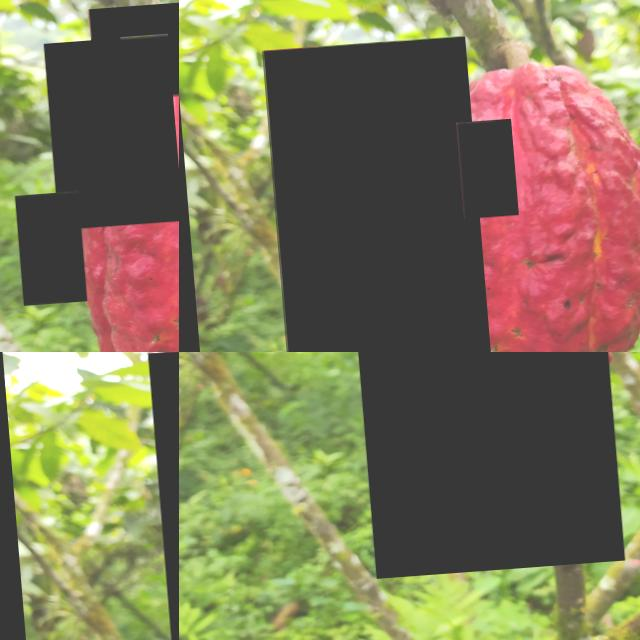Monilia: (41, 40, 177, 234), (86, 7, 179, 105), (10, 195, 80, 308)
Sana: (259, 40, 482, 352), (343, 352, 615, 582), (452, 124, 513, 224)
